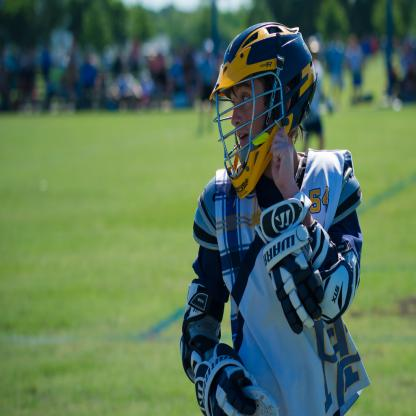Helmet: (209, 20, 317, 200)
